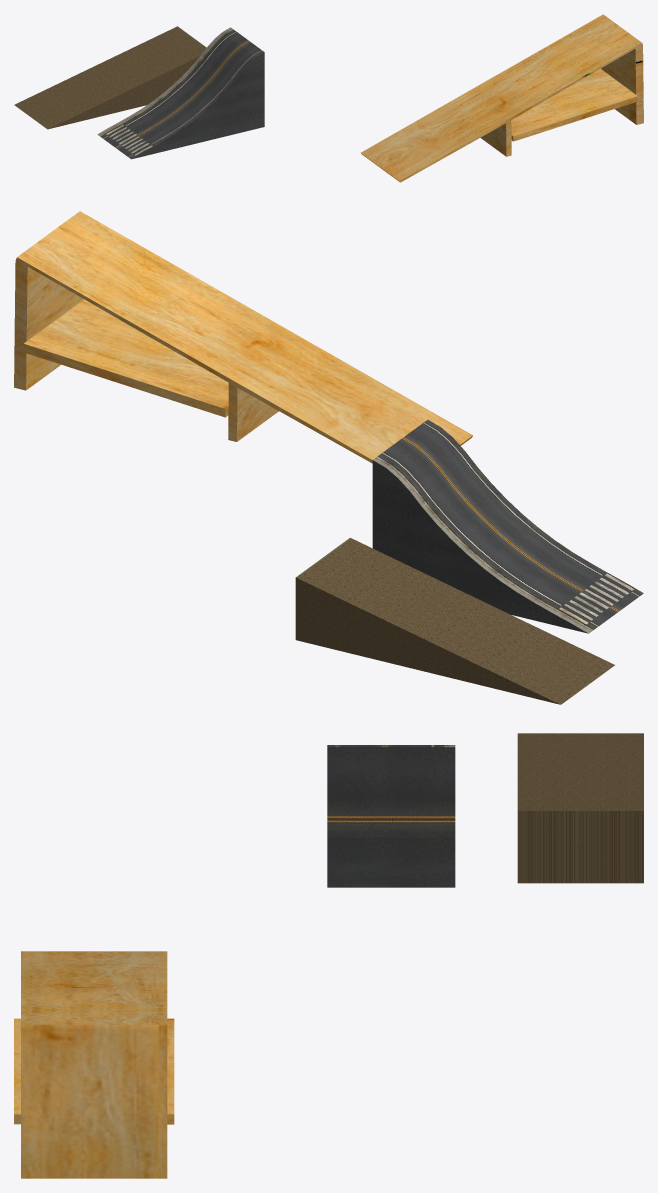
The model's file is Road Jumps.obj.
The picture shows the model from 3 angles, top to bottom: view 1: azimuth 30°, elevation 25°; view 2: azimuth 150°, elevation 25°; view 3: azimuth 270°, elevation 25°; orthographic projection. The views are drawn at different scales.
Visible parts, largest first — view 1: Box004, Box003, Box002; view 2: Box004, Box003, Box002; view 3: Box004, Box002, Box003.
Part boxes in pixels (<box>): Box004: <box>361,14,643,182</box>; Box003: <box>97,27,264,159</box>; Box002: <box>14,26,206,129</box>; Box004: <box>14,211,472,463</box>; Box003: <box>372,419,643,633</box>; Box002: <box>295,537,614,704</box>; Box004: <box>14,951,174,1178</box>; Box002: <box>517,733,643,883</box>; Box003: <box>327,745,455,887</box>.
Bounding box in the file's own units: 1889 × 327 × 1181.
3 materials, 3 textured.
